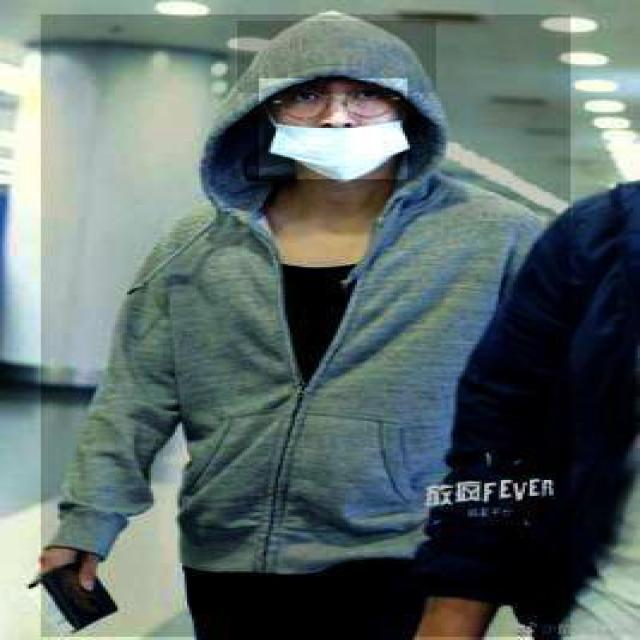face_mask: (259, 78, 410, 181)
glasses: (269, 84, 402, 124)
hand_noglove: (20, 544, 111, 594)
head_nohelmet: (237, 21, 439, 94)
person: (41, 14, 573, 638)
